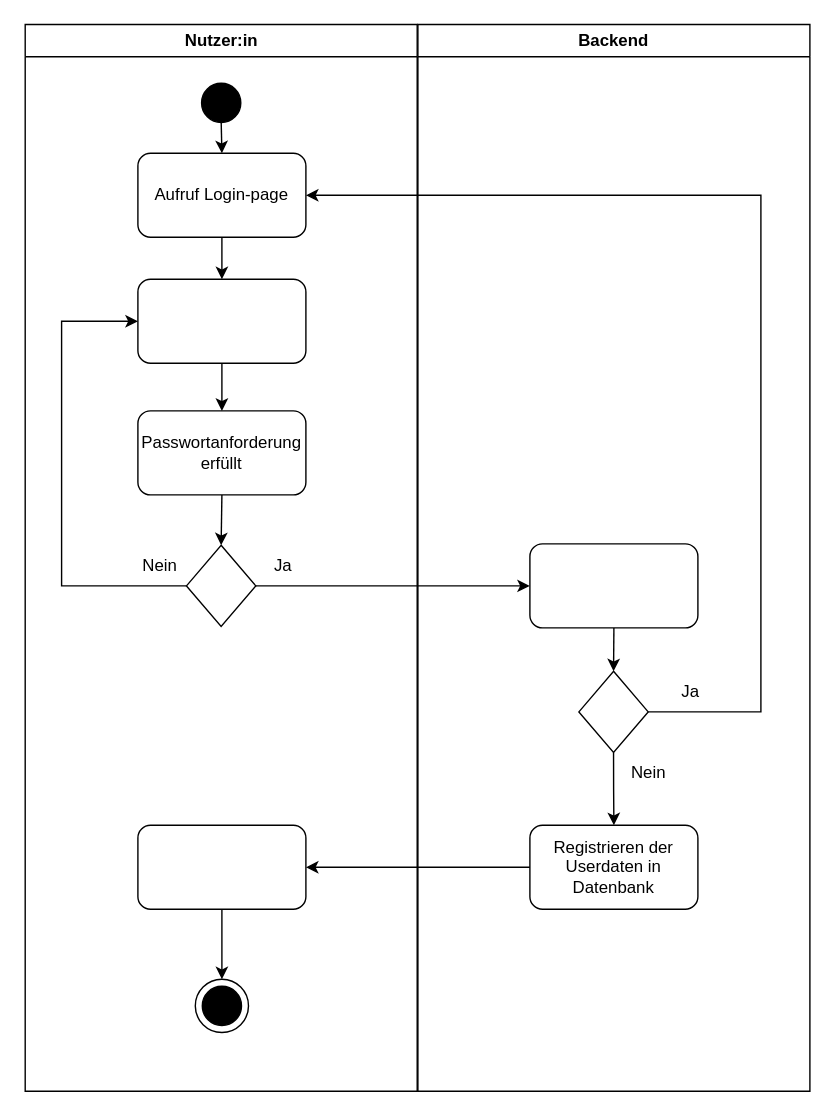
This 834x1116 diagram has some shape labels left out. Each missing label, with the centre of its shape:
"Aufruf Homepage" belongs at (x=221, y=866).
"Eingabe von Userdaten in Eingabefeld" belongs at (x=221, y=320).
"User bereits vorhanden in Datenbank" belongs at (x=613, y=585).
